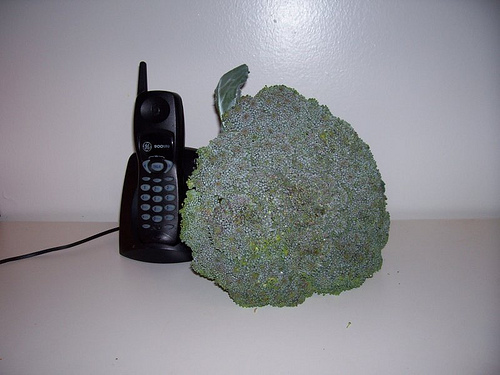broccoli: (176, 81, 392, 313)
